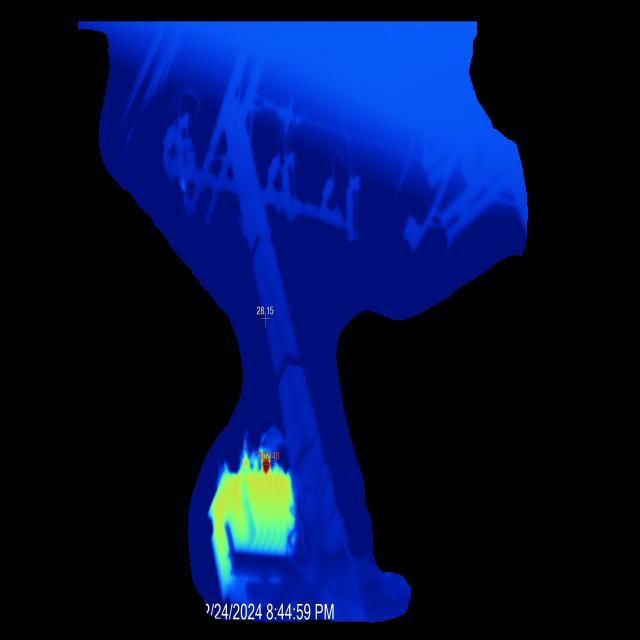Loose Joint F: (260, 453, 270, 474)
